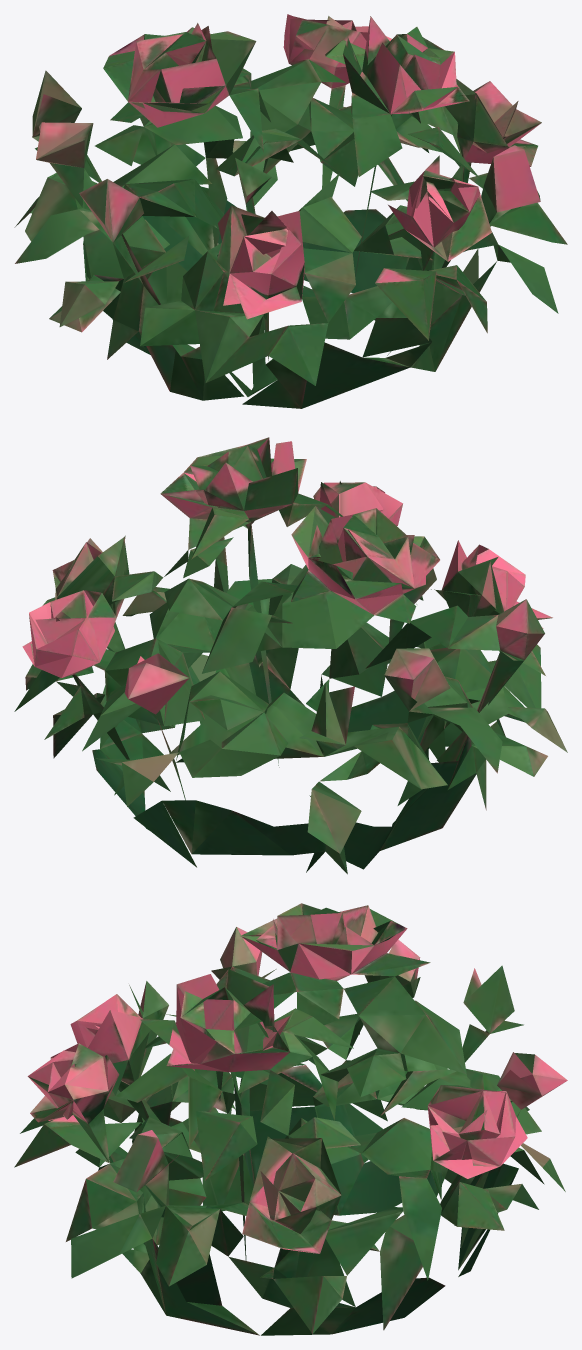
File: flower-rose-bush.glb
The picture shows the model from 3 angles, top to bottom: view 1: azimuth 30°, elevation 25°; view 2: azimuth 150°, elevation 25°; view 3: azimuth 270°, elevation 25°; orthographic projection.
Visible parts, largest first — view 1: flower-rose-bush-fit; view 2: flower-rose-bush-fit; view 3: flower-rose-bush-fit.
Part boxes in pixels (box(x1,y1,x2,y2)): flower-rose-bush-fit: box(14, 14, 567, 408); flower-rose-bush-fit: box(14, 437, 567, 874); flower-rose-bush-fit: box(14, 903, 567, 1335).
Size of the model in its own units: 1.63 by 1 by 1.53.
Materials: 1 (1 with a texture image).
